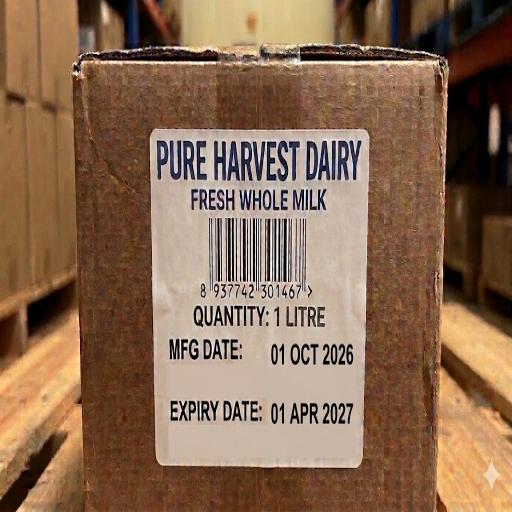barcoderotation: (198, 217, 321, 300)
expiry_daterotation: (166, 391, 356, 432)
labelrotation: (154, 134, 362, 454)
mfg_daterotation: (167, 335, 357, 375)
quantityrotation: (188, 302, 331, 333)
